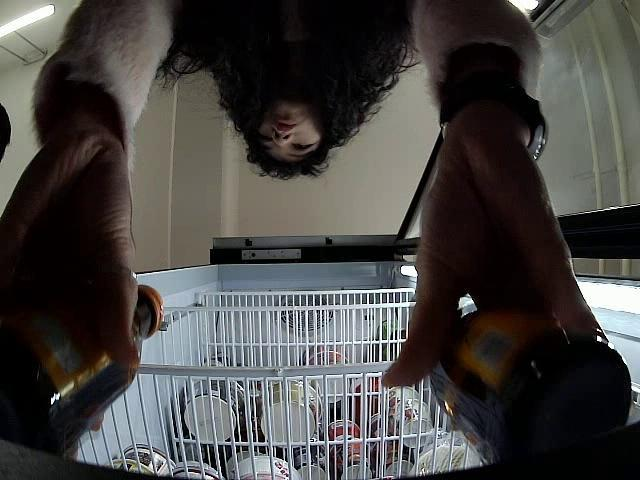17_vita500: (419, 301, 632, 470), (0, 286, 166, 457)
